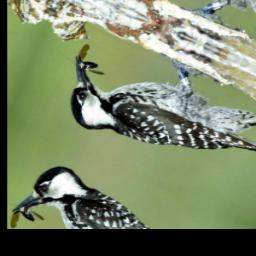Woodpecker: (52, 27, 256, 205)
